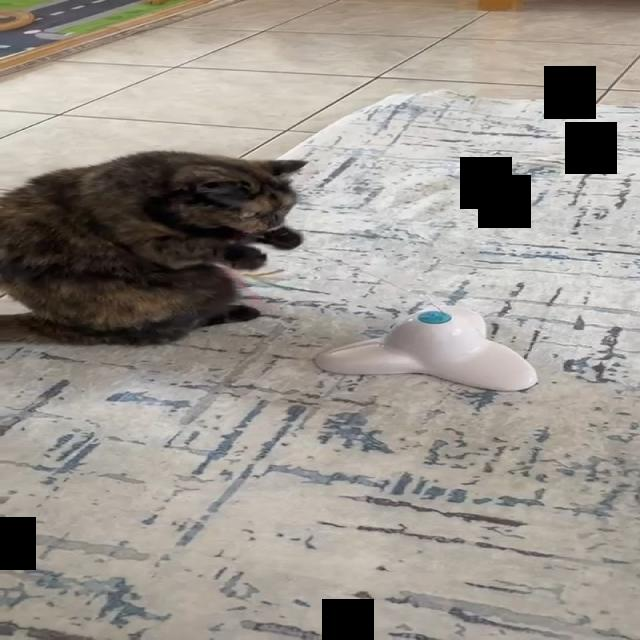authorized: (0, 148, 309, 346)
